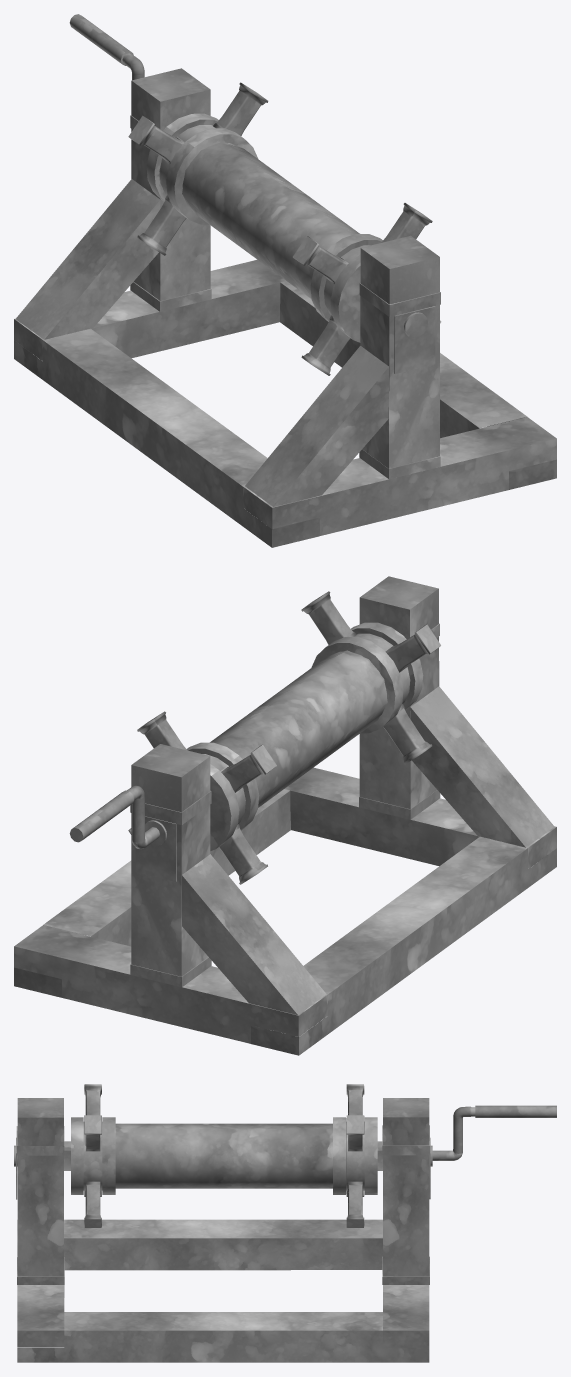
The model's file is SM_GateMech_01a.fbx.
3 renders of one model, top to bottom at view 1: azimuth 30°, elevation 25°; view 2: azimuth 150°, elevation 25°; view 3: azimuth 270°, elevation 25°, orthographic. The views are drawn at different scales.
Visible parts, largest first — view 1: SM_GateMech_01a_LOD0; view 2: SM_GateMech_01a_LOD0; view 3: SM_GateMech_01a_LOD0.
Boxes of the visible parts, x1,y1,x2,y2 form: SM_GateMech_01a_LOD0: [14, 14, 556, 547]; SM_GateMech_01a_LOD0: [14, 576, 556, 1055]; SM_GateMech_01a_LOD0: [14, 1084, 556, 1362].
Size of the model in its own units: 168 by 348 by 148.
